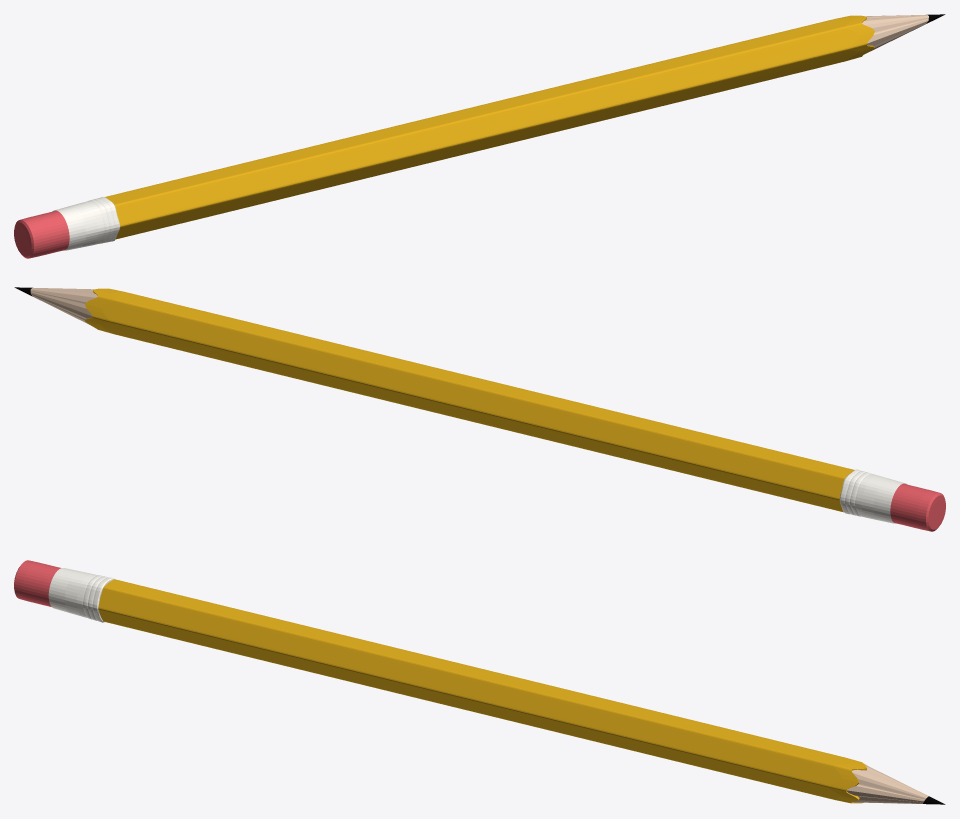
File: pencil.fbx
The picture shows the model from 3 angles, top to bottom: view 1: azimuth 30°, elevation 25°; view 2: azimuth 150°, elevation 25°; view 3: azimuth 330°, elevation 25°; orthographic projection.
Visible parts, largest first — view 1: rubber, Cone; view 2: rubber, Cone; view 3: rubber, Cone.
Part boxes in pixels (bbox=[...]): rubber: bbox=[14, 15, 874, 258]; Cone: bbox=[862, 14, 928, 53]; rubber: bbox=[85, 288, 945, 531]; Cone: bbox=[30, 287, 97, 323]; rubber: bbox=[14, 560, 867, 803]; Cone: bbox=[846, 764, 928, 803].
Bounding box in the file's own units: 14.3 × 0.5819 × 0.6104.
